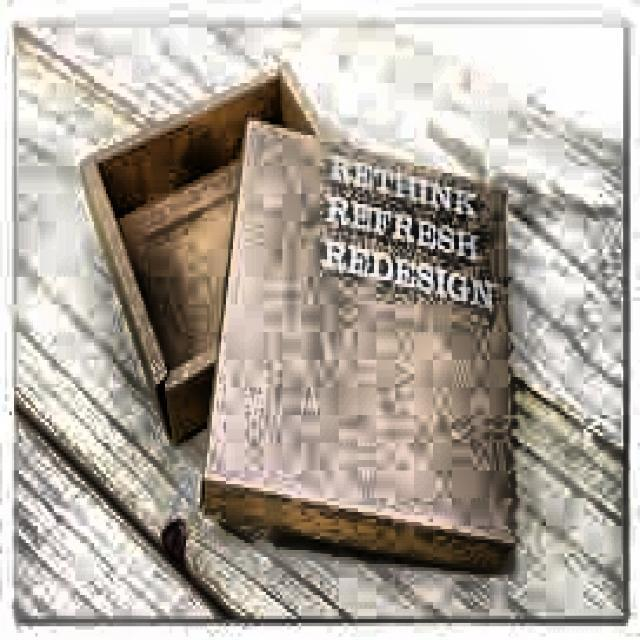cardboard: (200, 114, 518, 571), (77, 55, 320, 443)
